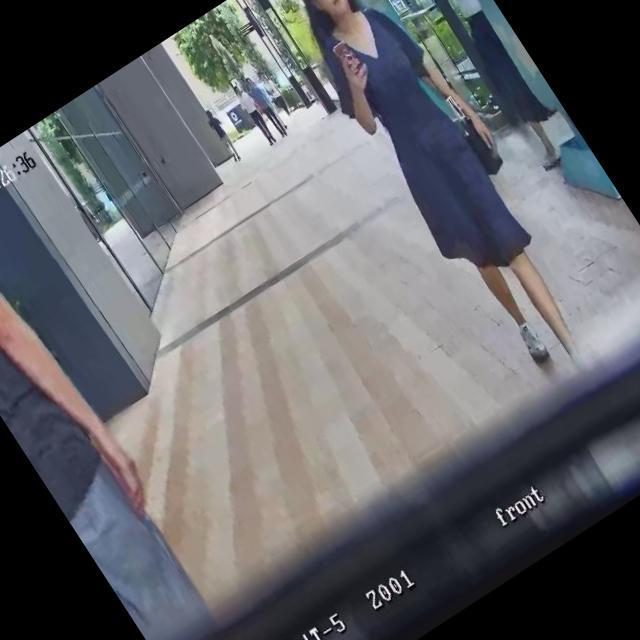person: (257, 0, 621, 394), (0, 180, 234, 640), (386, 0, 589, 174), (239, 72, 291, 141), (230, 80, 280, 147), (200, 106, 244, 164), (256, 70, 294, 119)
